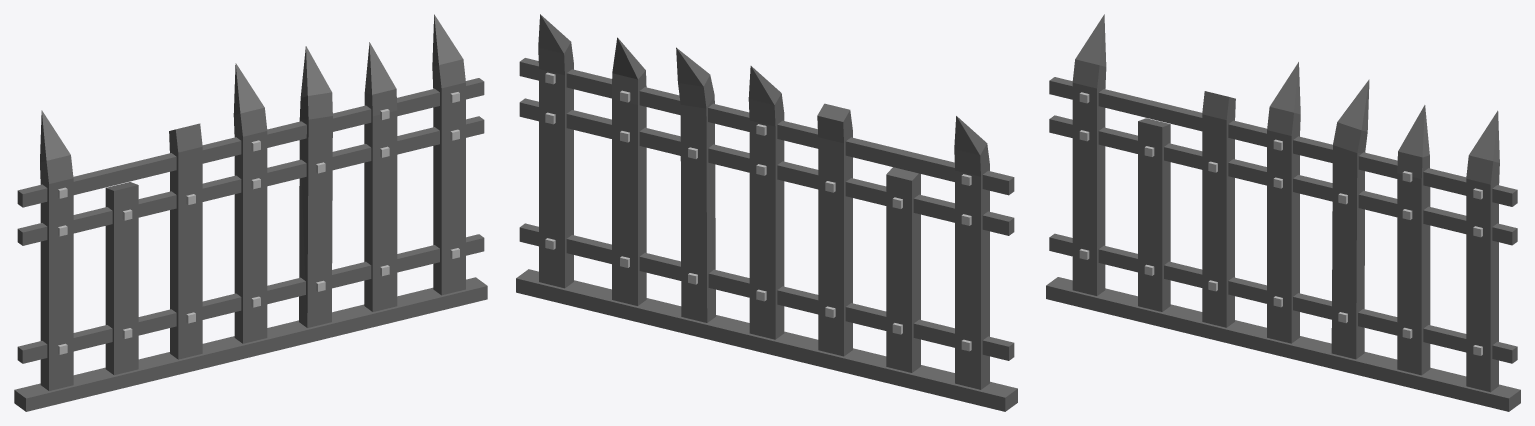
File: Bars 01.FBX
3 views of the same model, side by side, from view 1: azimuth 30°, elevation 25°; view 2: azimuth 150°, elevation 25°; view 3: azimuth 330°, elevation 25° (orthographic). The views are drawn at different scales.
Visible parts, largest first — view 1: Bars 01; view 2: Bars 01; view 3: Bars 01.
Part boxes in pixels (x1=…): Bars 01: x1=14, y1=14, x2=487, y2=411; Bars 01: x1=516, y1=14, x2=1017, y2=411; Bars 01: x1=1046, y1=14, x2=1520, y2=411.
Bounding box in the file's own units: 400 × 230 × 32.31.
